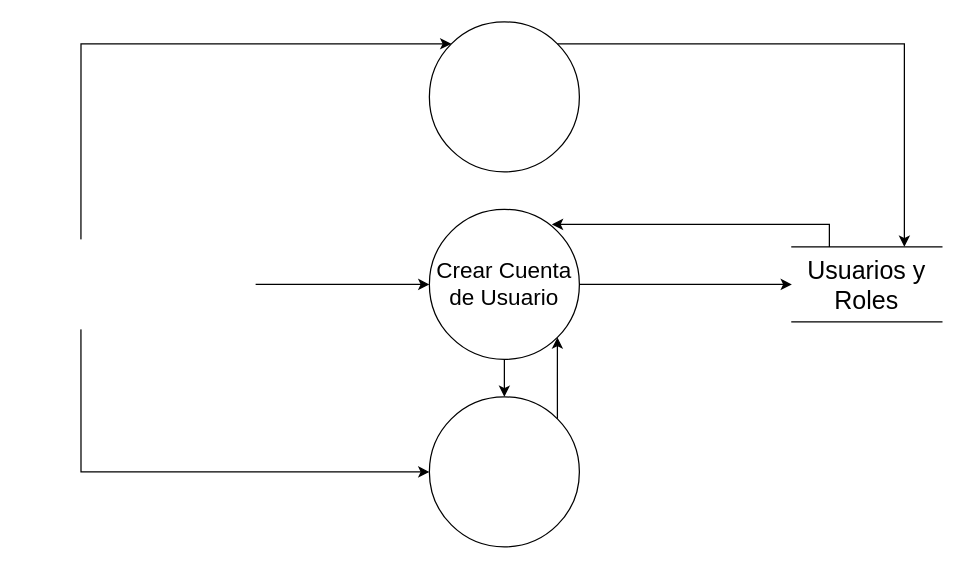
Image size: 964x569. Some labels were removed from this diagram. The box of each missing label's shape, as (x1, y1, x2, y2) in pixels:
Asignar Rol: (428, 396, 579, 547)
Eliminar Cuenta: (428, 21, 579, 172)
